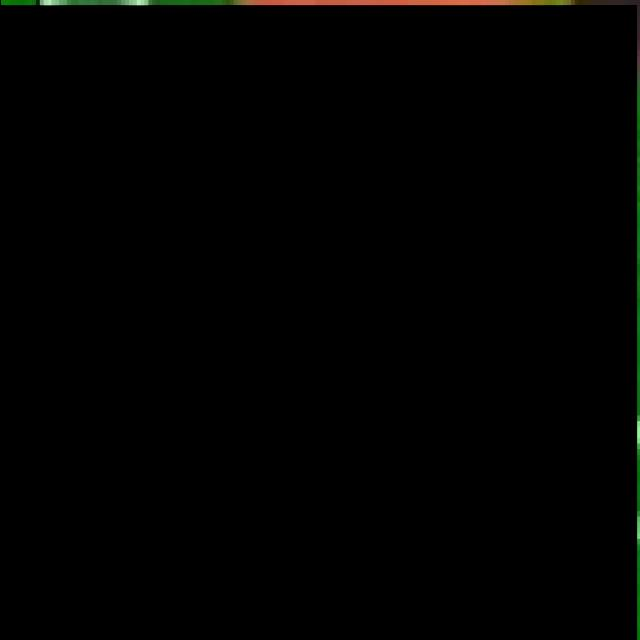fire: (0, 5, 636, 640)
